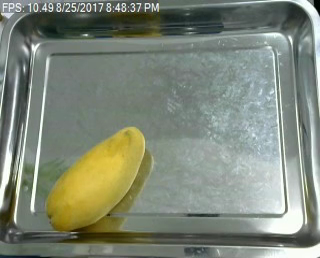Mango: (44, 123, 146, 232)
